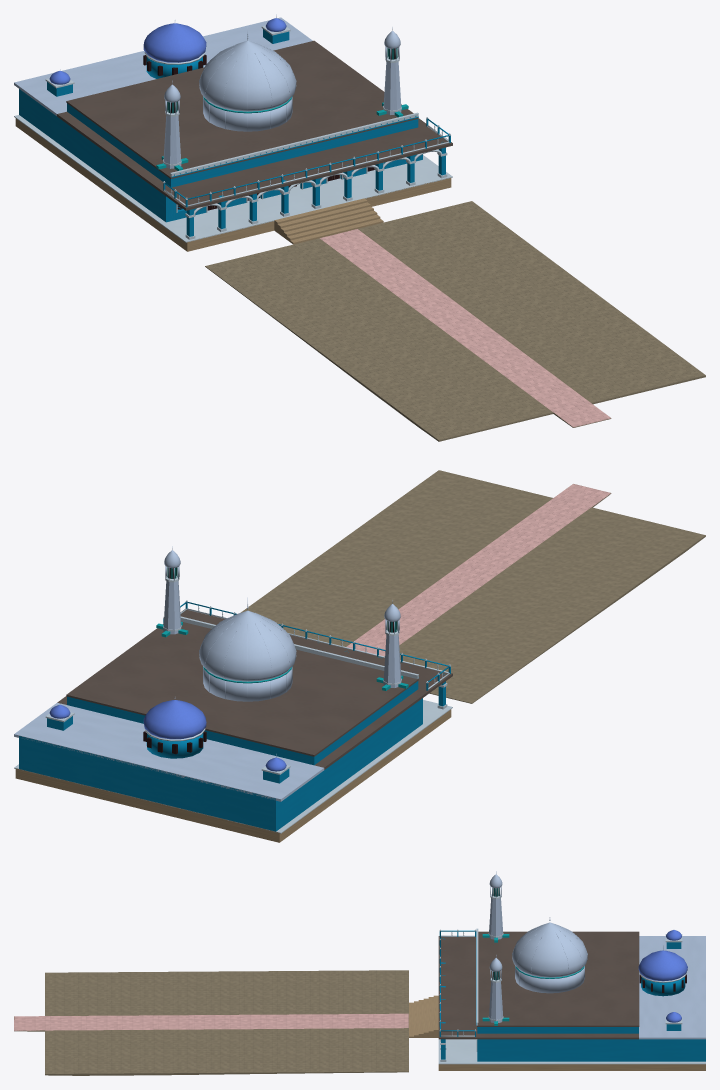
File: bung-binh-thien-mid.glb
The picture shows the model from 3 angles, top to bottom: view 1: azimuth 30°, elevation 25°; view 2: azimuth 150°, elevation 25°; view 3: azimuth 270°, elevation 25°; orthographic projection. The views are drawn at different scales.
Visible parts, largest first — view 1: Al Khairiyah closed main mid; view 2: Al Khairiyah closed main mid; view 3: Al Khairiyah closed main mid.
Boxes of the visible parts, left/top/right/bottom form: Al Khairiyah closed main mid: left=14, top=14, right=705, bottom=441; Al Khairiyah closed main mid: left=14, top=470, right=705, bottom=842; Al Khairiyah closed main mid: left=14, top=871, right=705, bottom=1075.
Size of the model in its own units: 26.69 by 13.87 by 77.01.
Materials: 1 (1 with a texture image).
